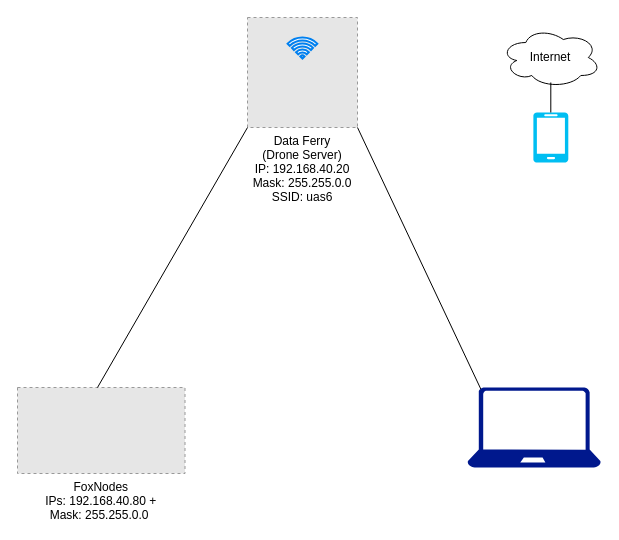
The diagram is 619 pixels wide and 540 high, and some of its shapes have lost their labels. Grey dashed boxes stand in for pictures. Here are the shapes that lost their labels. From the top down, the box of each, then its label:
(533, 112, 568, 162): Mobile Hotspot (For Provisioning) SSID: UAS_NTP
(467, 387, 600, 467): Command Server IP: 192.168.40.10 Mask: 255.255.0.0
